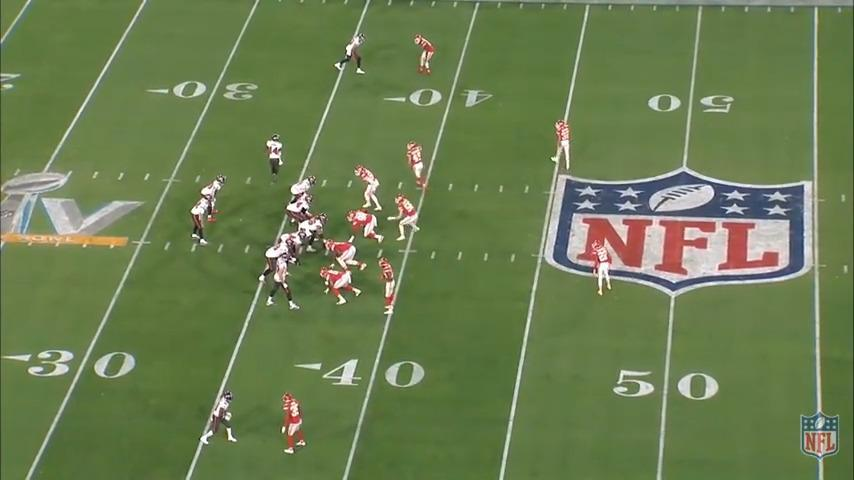player: (198, 391, 237, 450), (267, 251, 300, 312), (279, 392, 308, 459), (334, 31, 370, 79), (320, 266, 361, 306), (260, 241, 297, 285), (354, 163, 384, 215), (324, 239, 367, 274), (347, 209, 386, 247), (393, 193, 422, 242), (377, 258, 400, 319), (403, 139, 428, 195), (296, 215, 331, 254), (593, 239, 616, 297), (188, 193, 211, 249), (204, 174, 228, 223), (552, 118, 575, 168), (266, 131, 289, 179), (414, 32, 437, 79), (276, 230, 307, 264), (287, 173, 316, 207), (287, 194, 315, 227)
